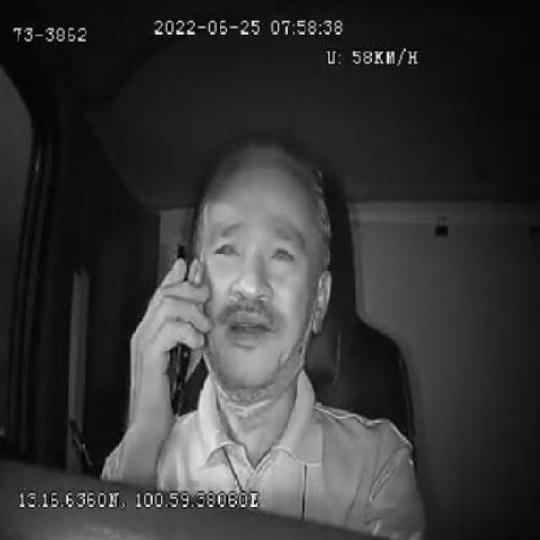phone: (165, 242, 194, 420)
